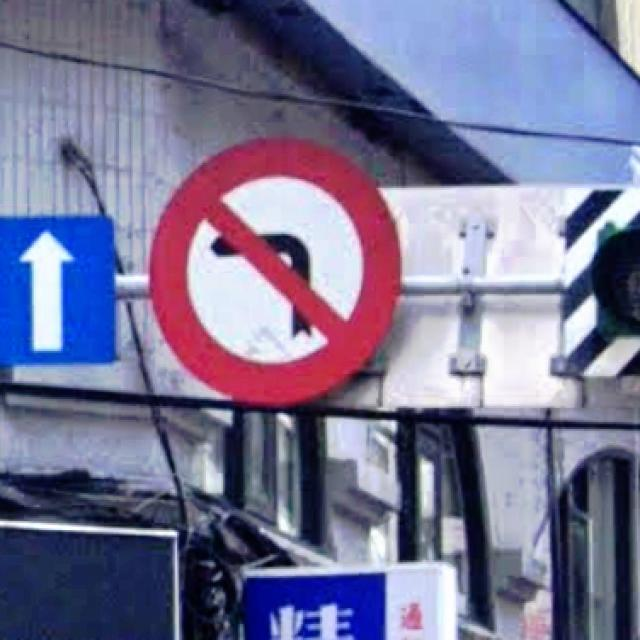noturnleft: (148, 138, 403, 408)
